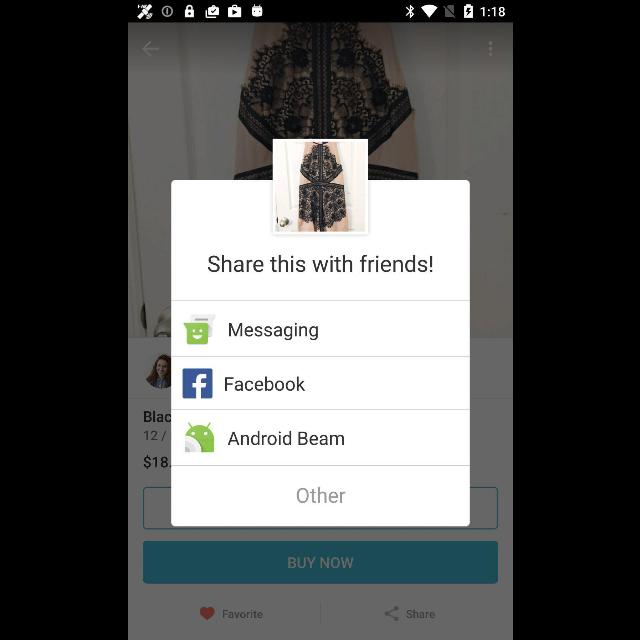icon: (182, 369, 212, 399), (142, 41, 158, 58), (198, 606, 214, 620), (384, 606, 398, 622)
image: (272, 139, 368, 235), (182, 314, 215, 344), (184, 421, 214, 453)
panel: (170, 139, 470, 527)
text: (206, 255, 432, 273), (228, 322, 318, 342), (227, 431, 343, 445), (225, 376, 305, 392), (222, 610, 262, 618), (406, 610, 434, 618)
textbutton: (170, 466, 470, 526), (142, 540, 498, 584)
uppertaskbar: (128, 1, 512, 23)
